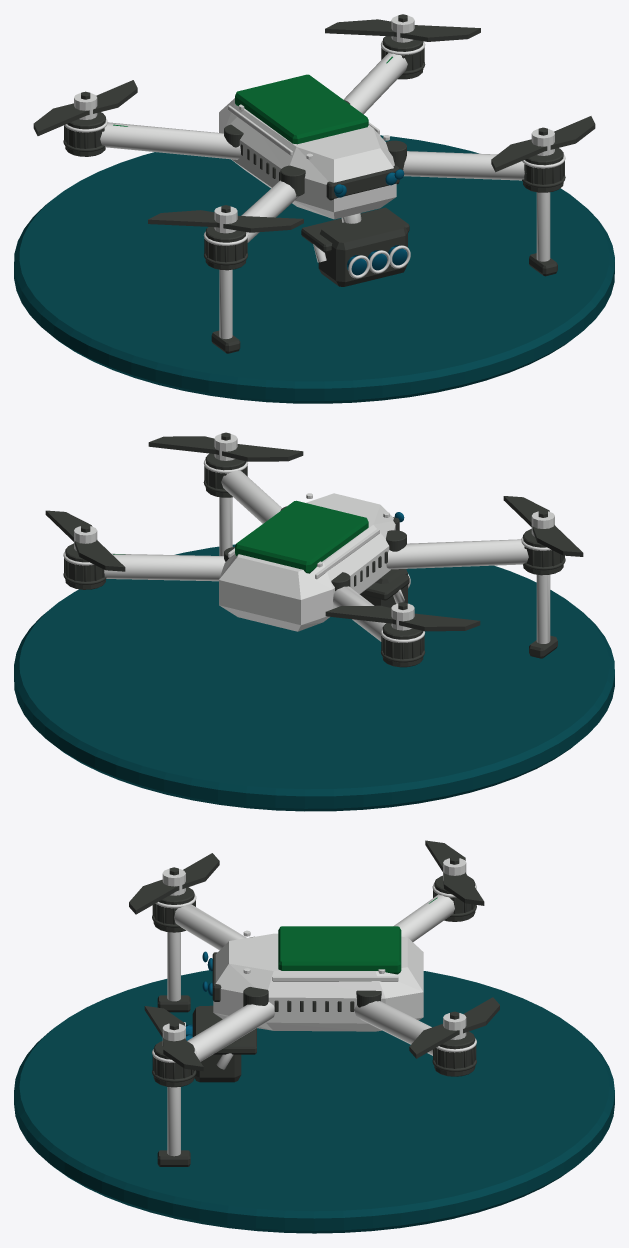
The model's file is autel-evo-max-4t.glb.
3 views of the same model, one above another, from view 1: azimuth 30°, elevation 25°; view 2: azimuth 150°, elevation 25°; view 3: azimuth 270°, elevation 25° (orthographic).
Parts seen in each view (by area): view 1: pedestal, body; view 2: pedestal, body; view 3: pedestal, body.
Boxes of the visible parts, left/top/right/bottom form: pedestal: left=14, top=135, right=614, bottom=403; body: left=33, top=14, right=595, bottom=353; pedestal: left=14, top=544, right=614, bottom=811; body: left=45, top=432, right=583, bottom=667; pedestal: left=14, top=970, right=614, bottom=1233; body: left=129, top=840, right=499, bottom=1166.
Size of the model in its own units: 4.4 by 1.39 by 4.4.
